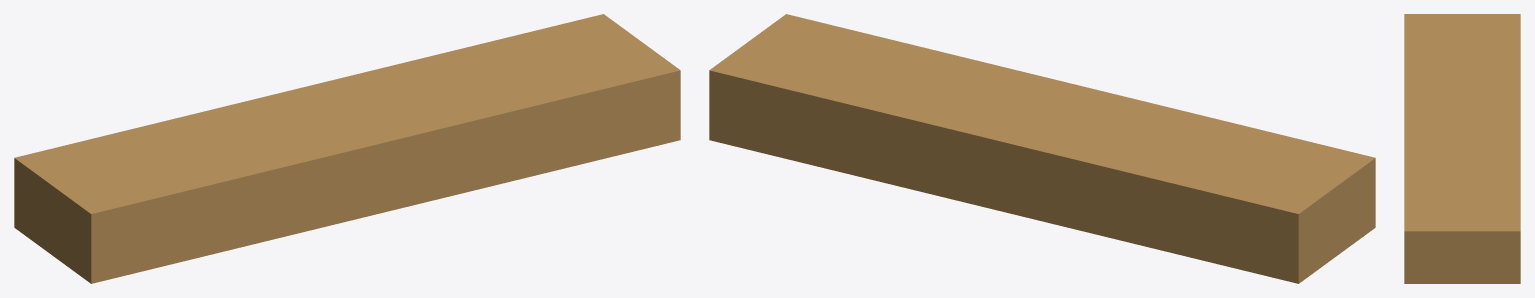
3 views of the same model, side by side, from view 1: azimuth 30°, elevation 25°; view 2: azimuth 150°, elevation 25°; view 3: azimuth 270°, elevation 25° (orthographic). The views are drawn at different scales.
Visible parts, largest first — view 1: RUN-006-S00-NOG-00; view 2: RUN-006-S00-NOG-00; view 3: RUN-006-S00-NOG-00.
Boxes of the visible parts, x1,y1,x2,y2 form: RUN-006-S00-NOG-00: (14,14,680,283); RUN-006-S00-NOG-00: (709,14,1375,283); RUN-006-S00-NOG-00: (1404,14,1520,283).
Bounding box in the file's own units: 0.3977 × 0.045 × 0.09.
